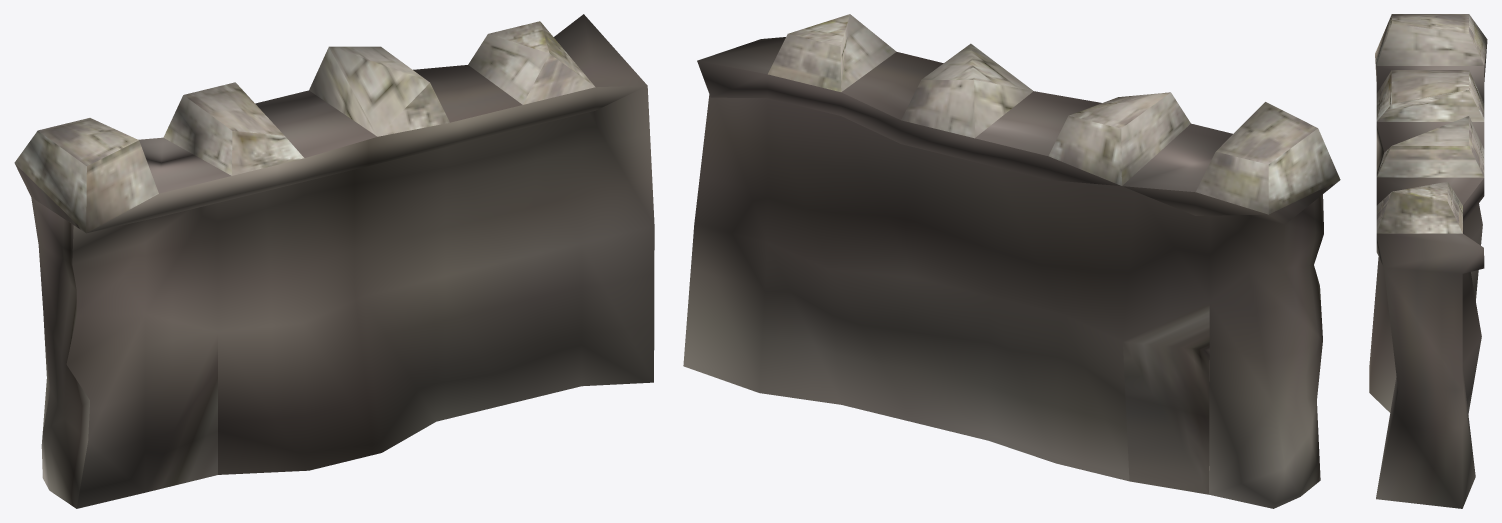
The model's file is Ruins2.glb.
3 renders of one model, left to right at view 1: azimuth 30°, elevation 25°; view 2: azimuth 150°, elevation 25°; view 3: azimuth 270°, elevation 25°, orthographic. The views are drawn at different scales.
Visible parts, largest first — view 1: Ruins2; view 2: Ruins2; view 3: Ruins2.
Boxes of the visible parts, bbox=[...] form: Ruins2: bbox=[14, 14, 654, 508]; Ruins2: bbox=[683, 14, 1340, 508]; Ruins2: bbox=[1369, 14, 1487, 508].
Bounding box in the file's own units: 17.01 × 9.7 × 3.68.
Materials: 2 (2 with a texture image).
